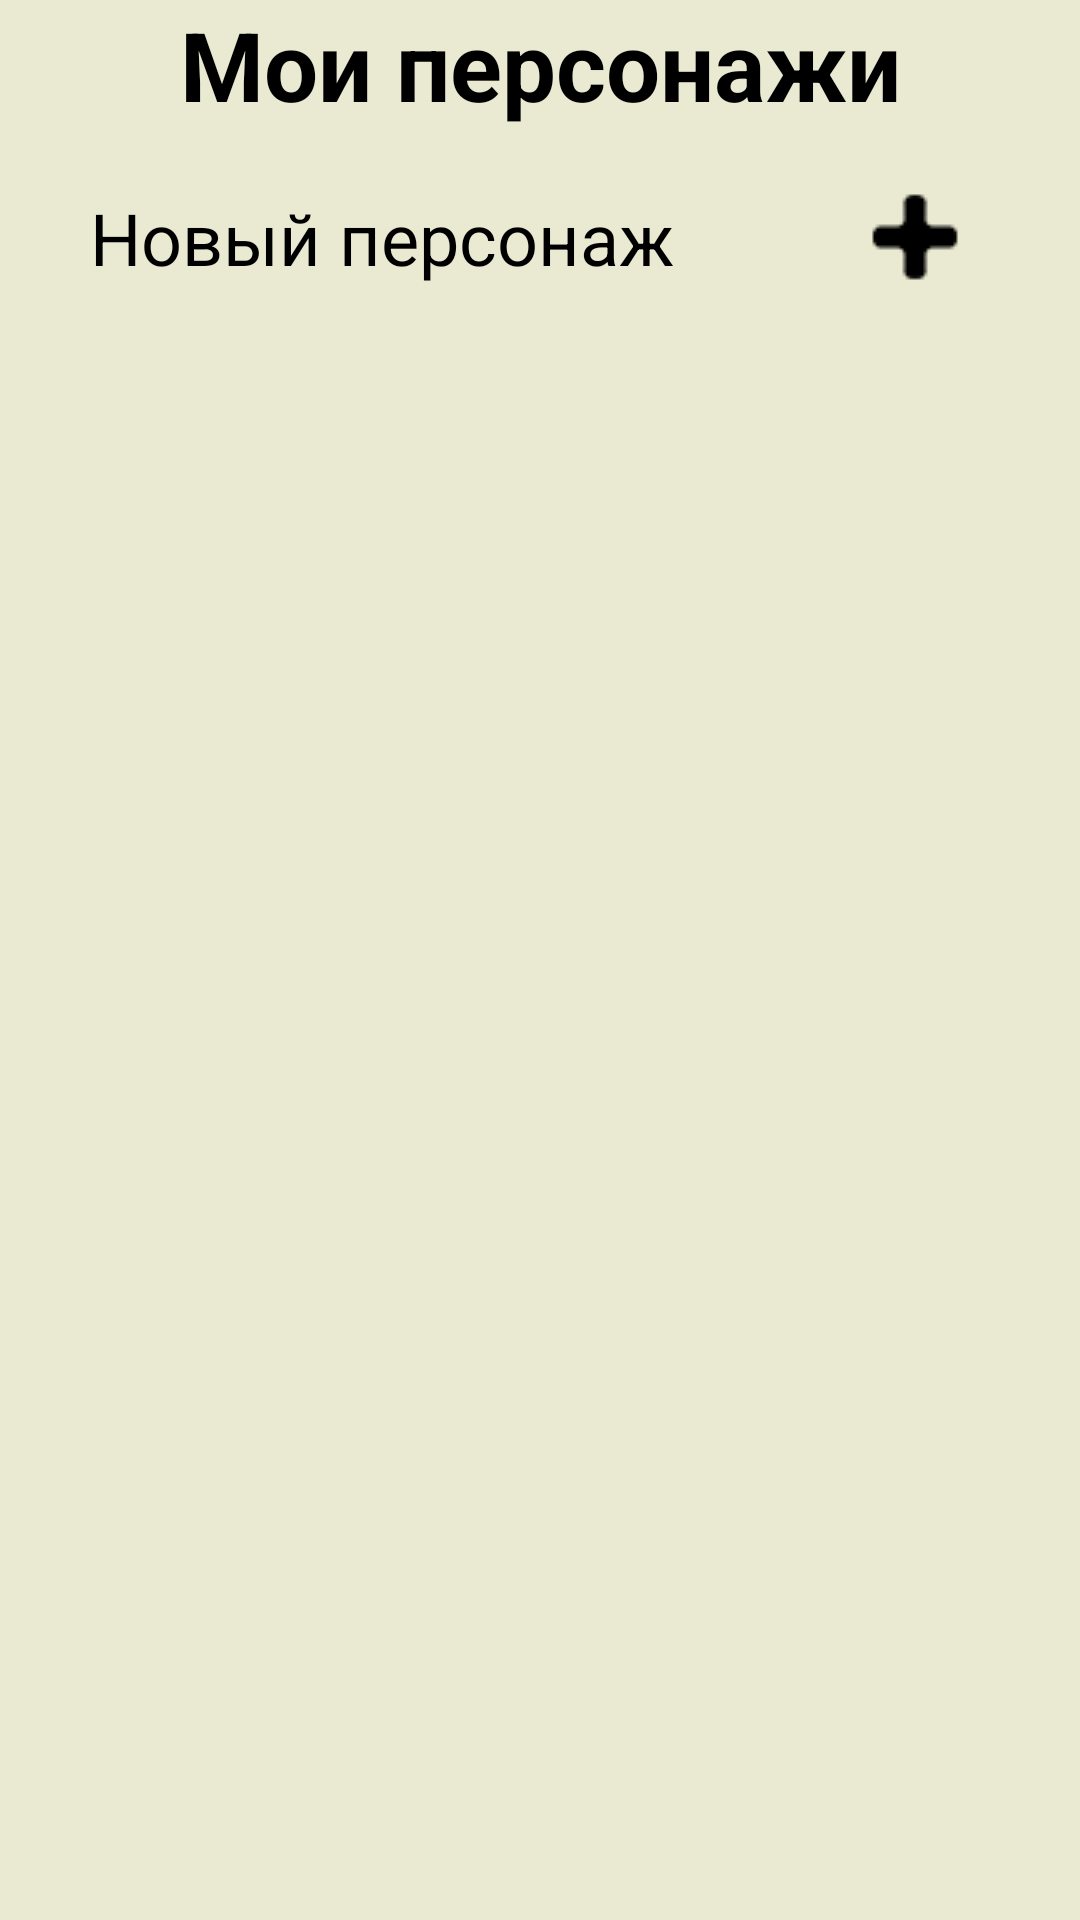

Icons on this 1080px×1920px Android screen, each with its box as region(x1, y1, x2, y2):
plus: region(872, 194, 958, 280)
